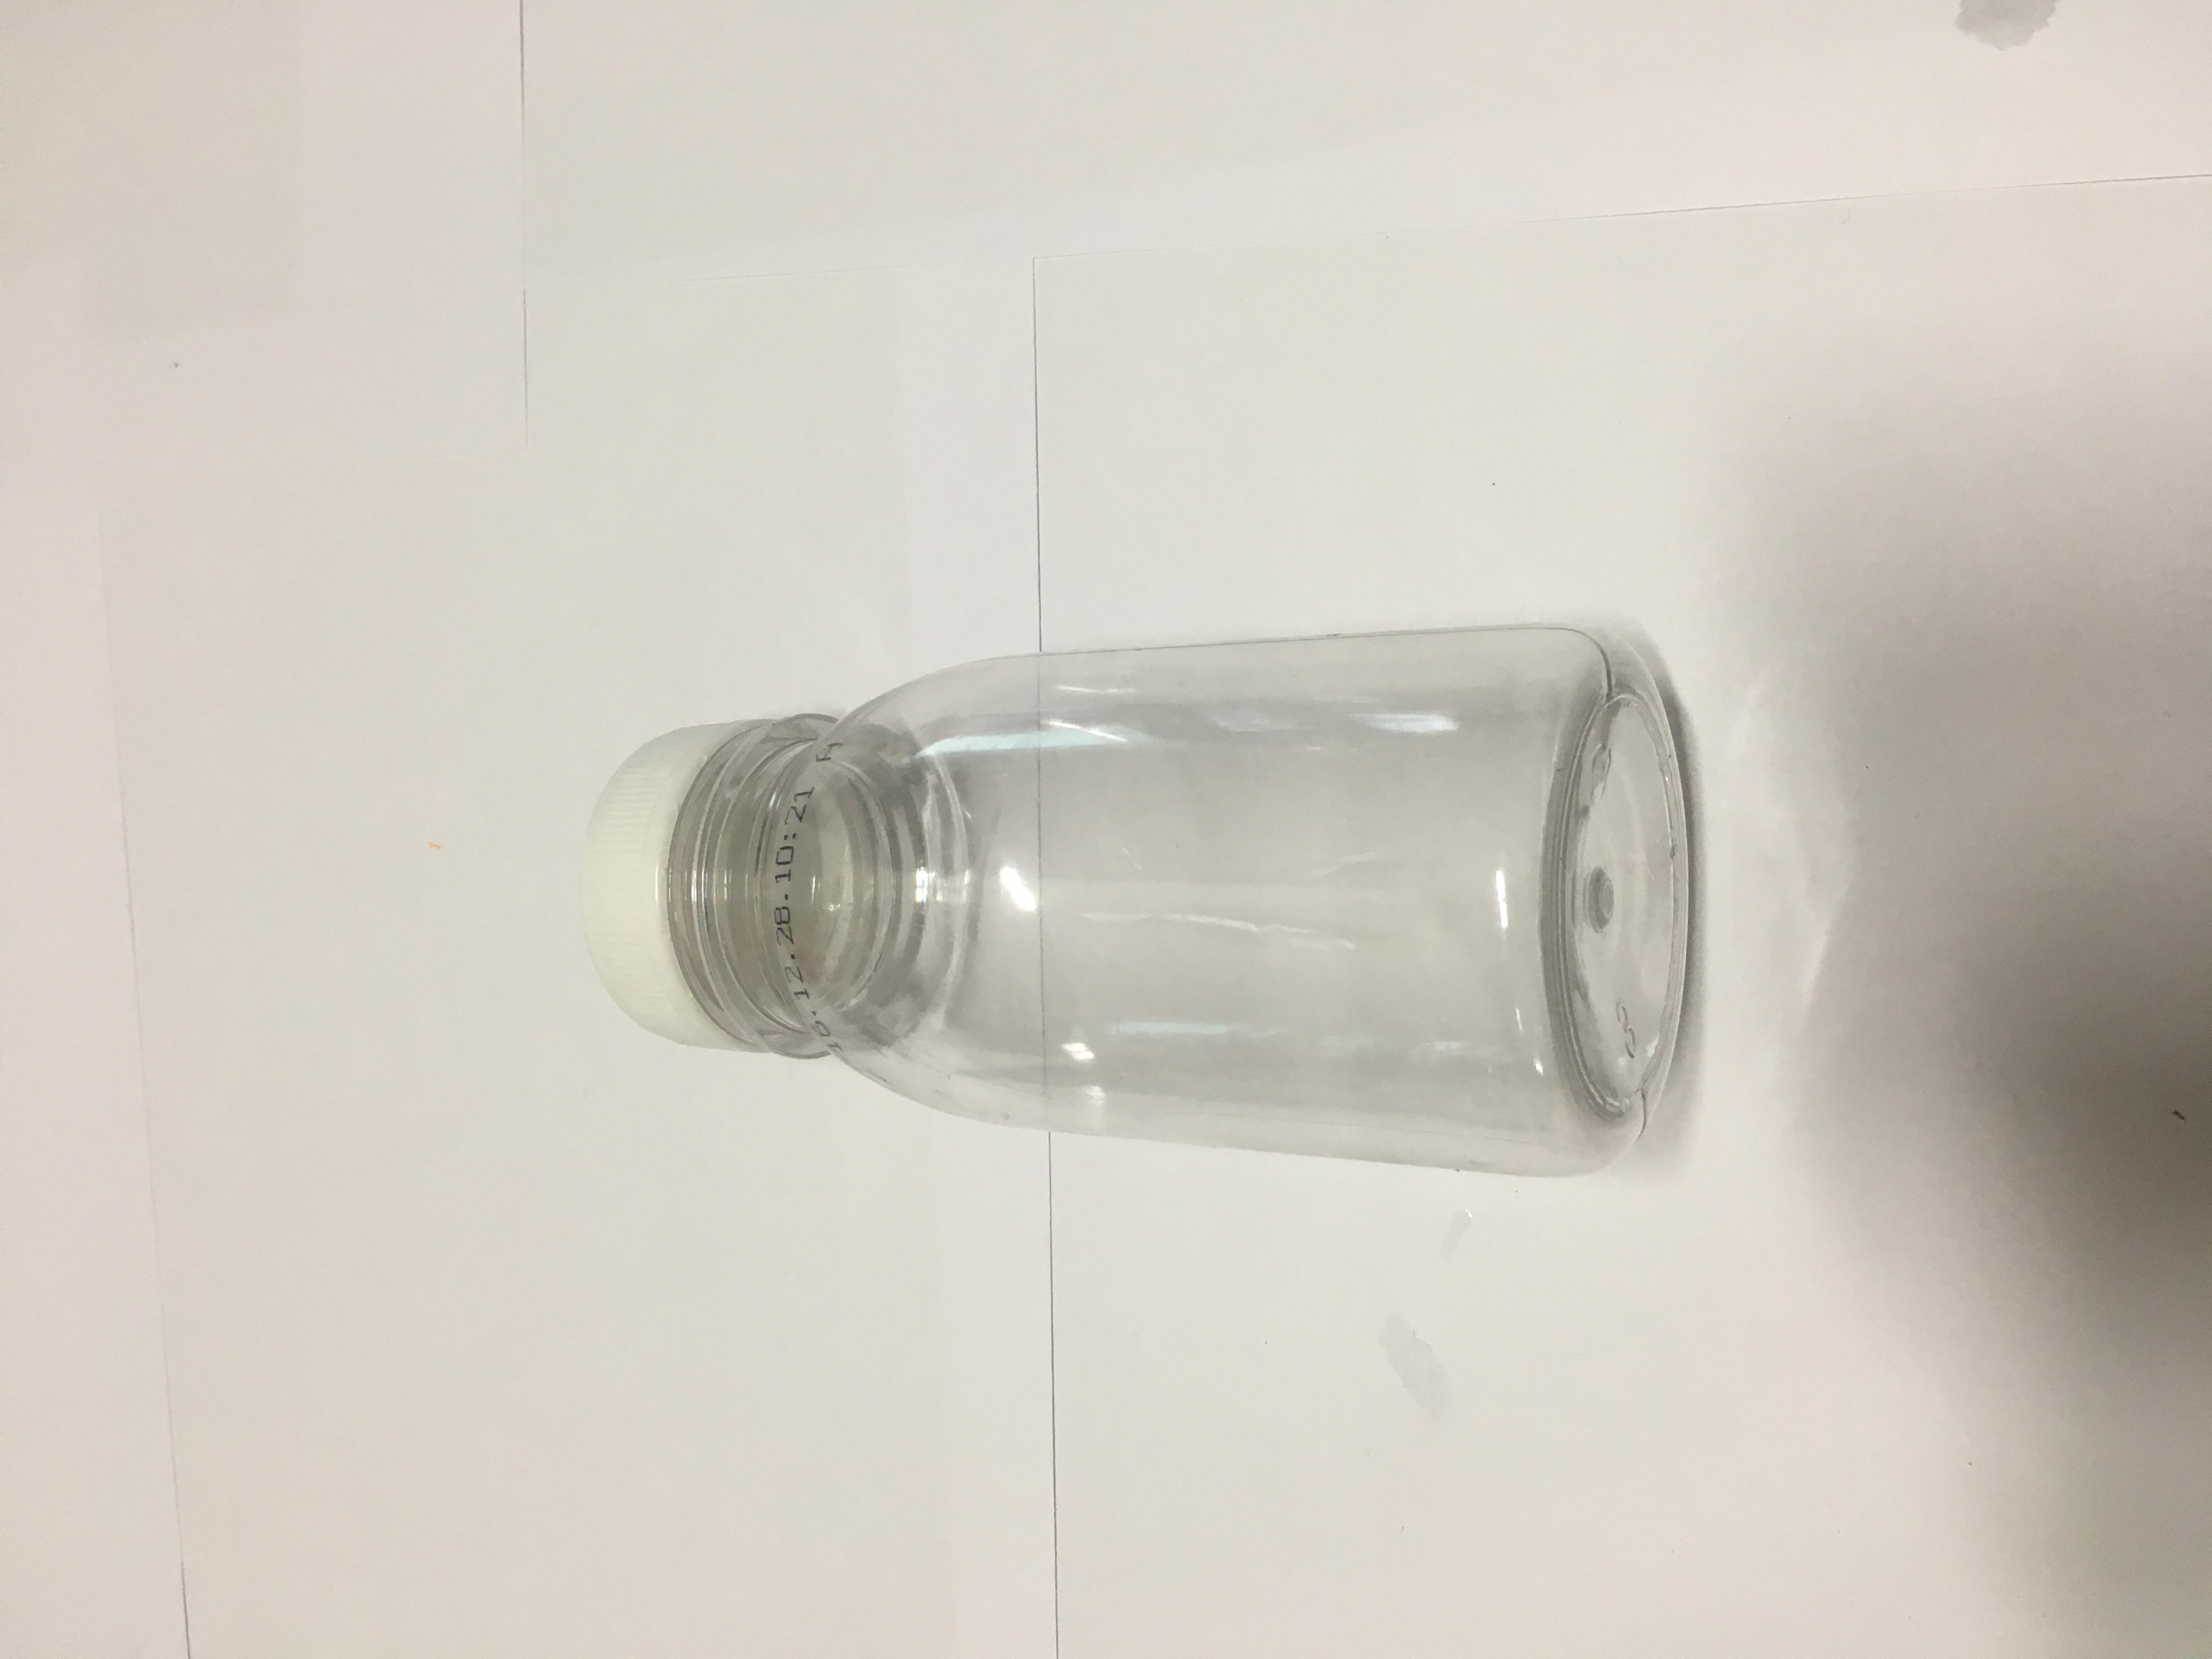bottle: (543, 389, 1482, 1302)
